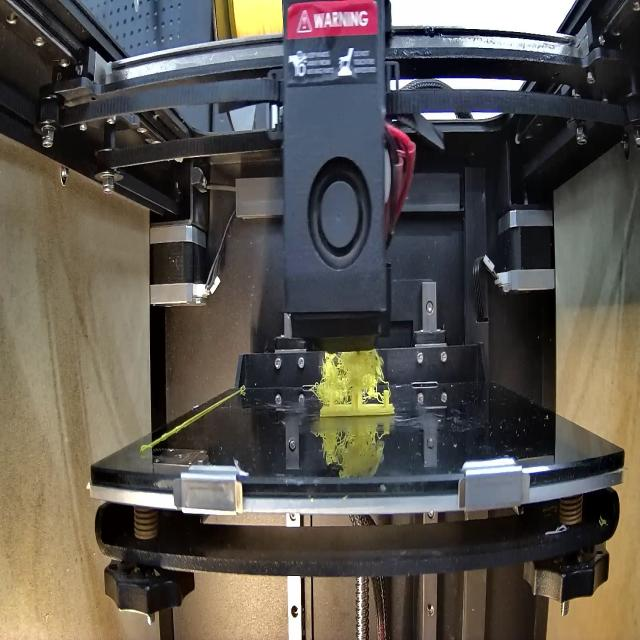spaghetti: (310, 343, 389, 403)
